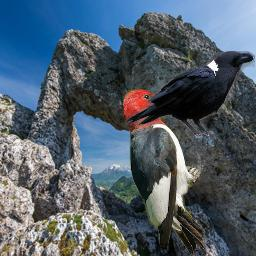Crow: (125, 51, 255, 145)
Woodpecker: (123, 87, 209, 256)
